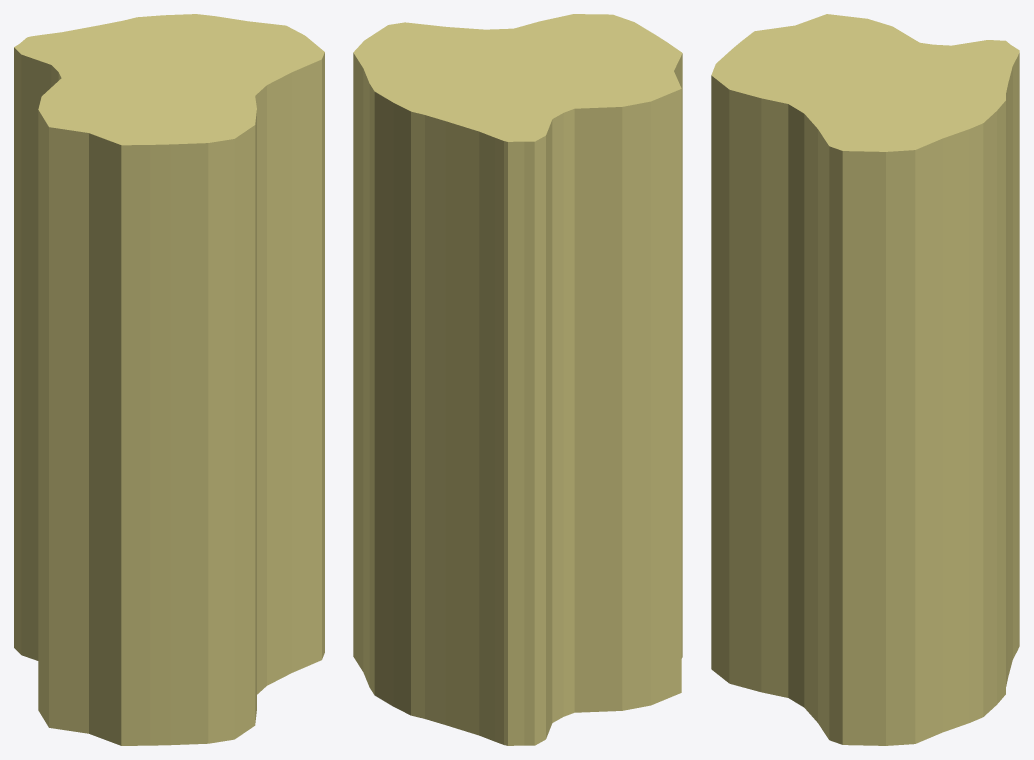
Rendered from wood_pine_centered01.dae.
The picture shows the model from 3 angles, left to right: view 1: azimuth 30°, elevation 25°; view 2: azimuth 150°, elevation 25°; view 3: azimuth 270°, elevation 25°; orthographic projection.
Visible parts, largest first — view 1: Object; view 2: Object; view 3: Object.
Part boxes in pixels (bbox=[...]): Object: bbox=[14, 14, 324, 745]; Object: bbox=[353, 14, 682, 745]; Object: bbox=[711, 14, 1019, 745].
Size of the model in its own units: 3.05 by 2.88 by 6.12.
